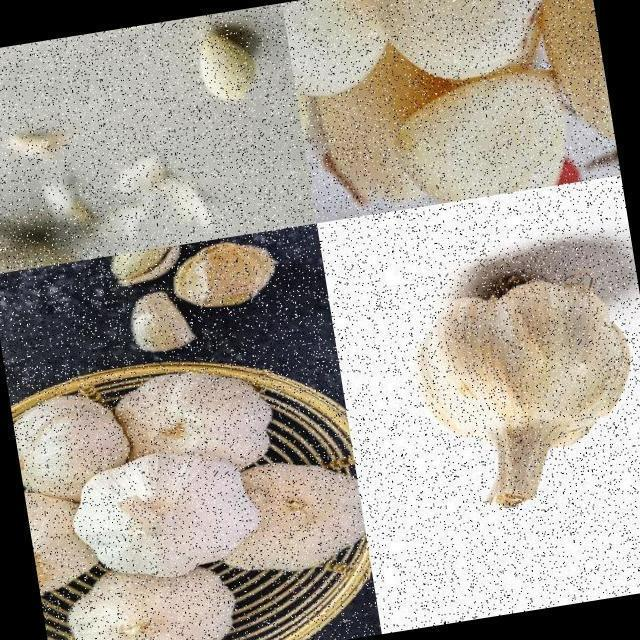garlic: (282, 0, 620, 222), (398, 247, 640, 527), (68, 443, 265, 590), (96, 230, 292, 362), (202, 450, 370, 585), (107, 363, 280, 489), (60, 553, 245, 640), (9, 387, 129, 508), (22, 476, 128, 596), (194, 17, 264, 108)
